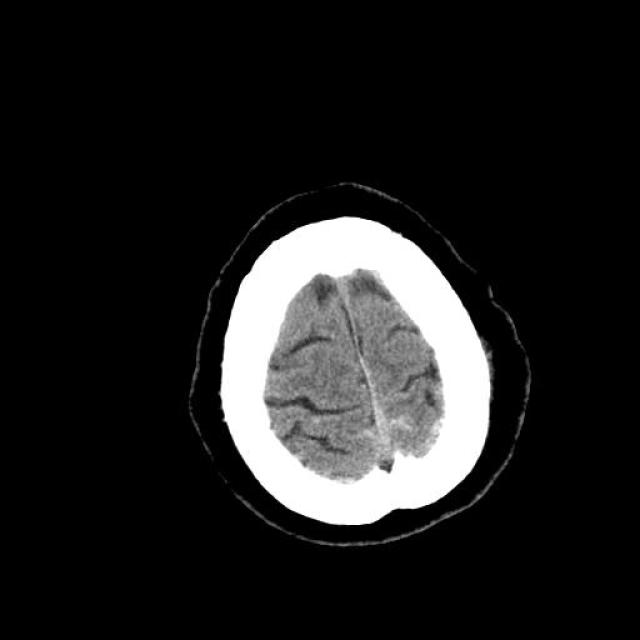Subarachnoid: (393, 404, 448, 446)
Subdural: (356, 351, 389, 451)
